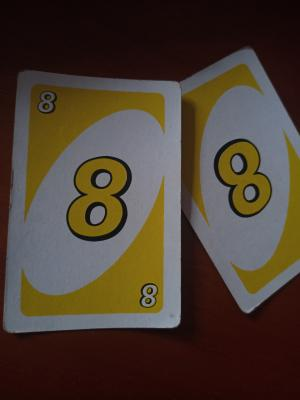num_8: (213, 130, 293, 255)
yellow: (31, 81, 77, 167)
